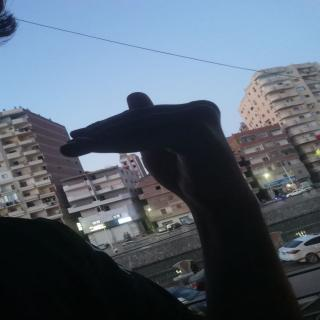KHAA: (58, 86, 254, 198)
